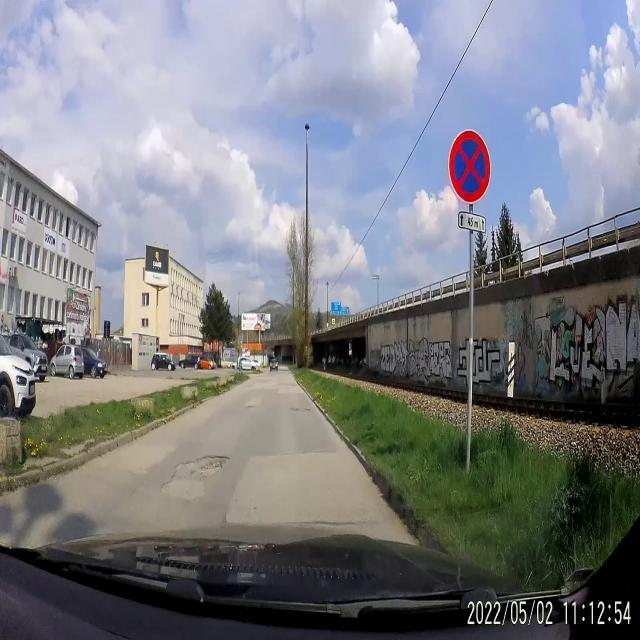Pothole: (158, 452, 233, 500), (289, 404, 301, 414), (246, 404, 256, 411), (304, 406, 312, 414)
